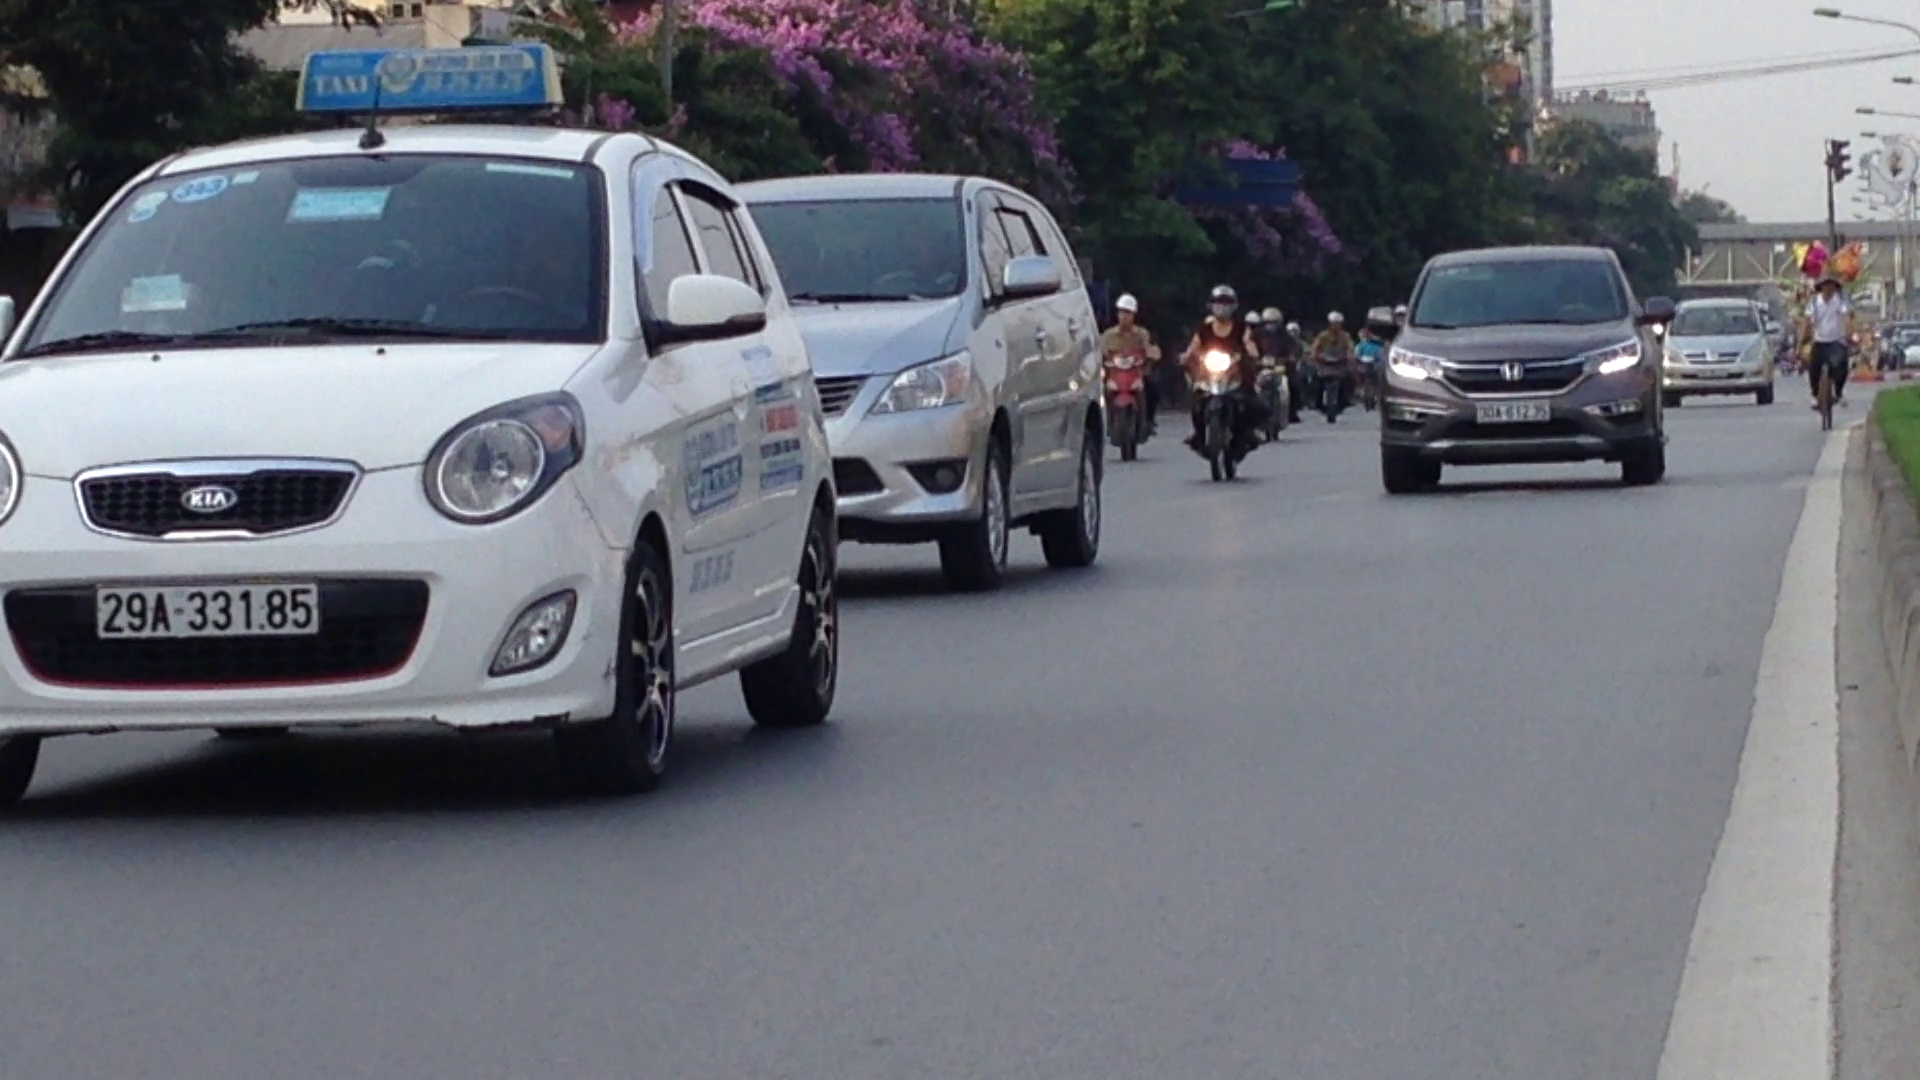person: (91, 582, 323, 639), (1472, 396, 1553, 426)
